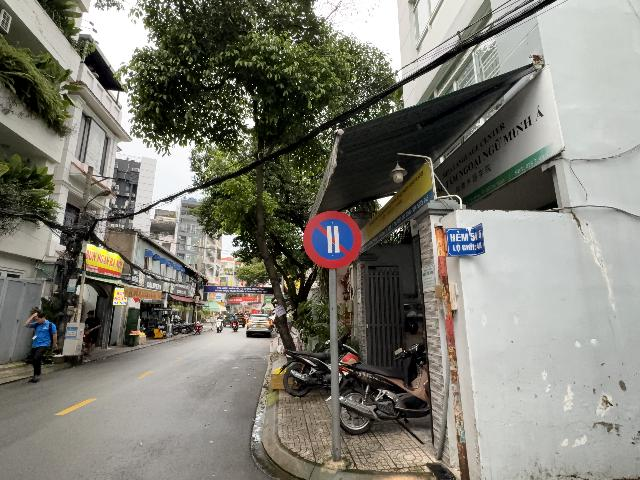cam-do-xe-ngay-chan: (302, 210, 361, 270)
